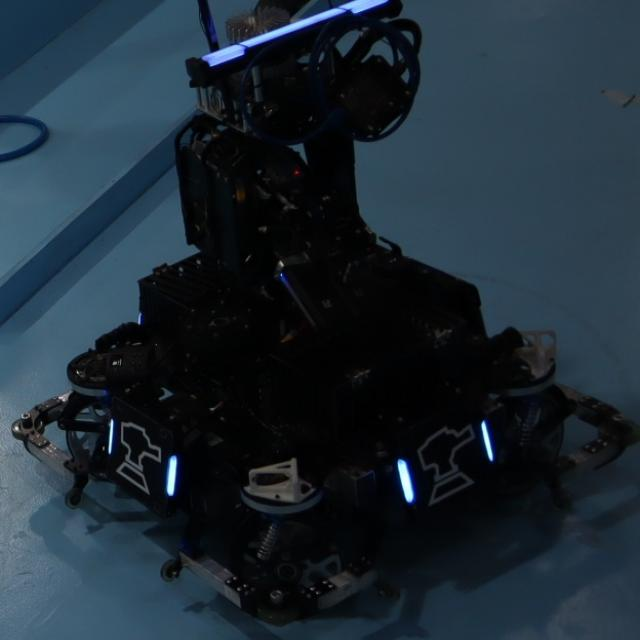Bs: (395, 416, 496, 511), (104, 408, 182, 505)
